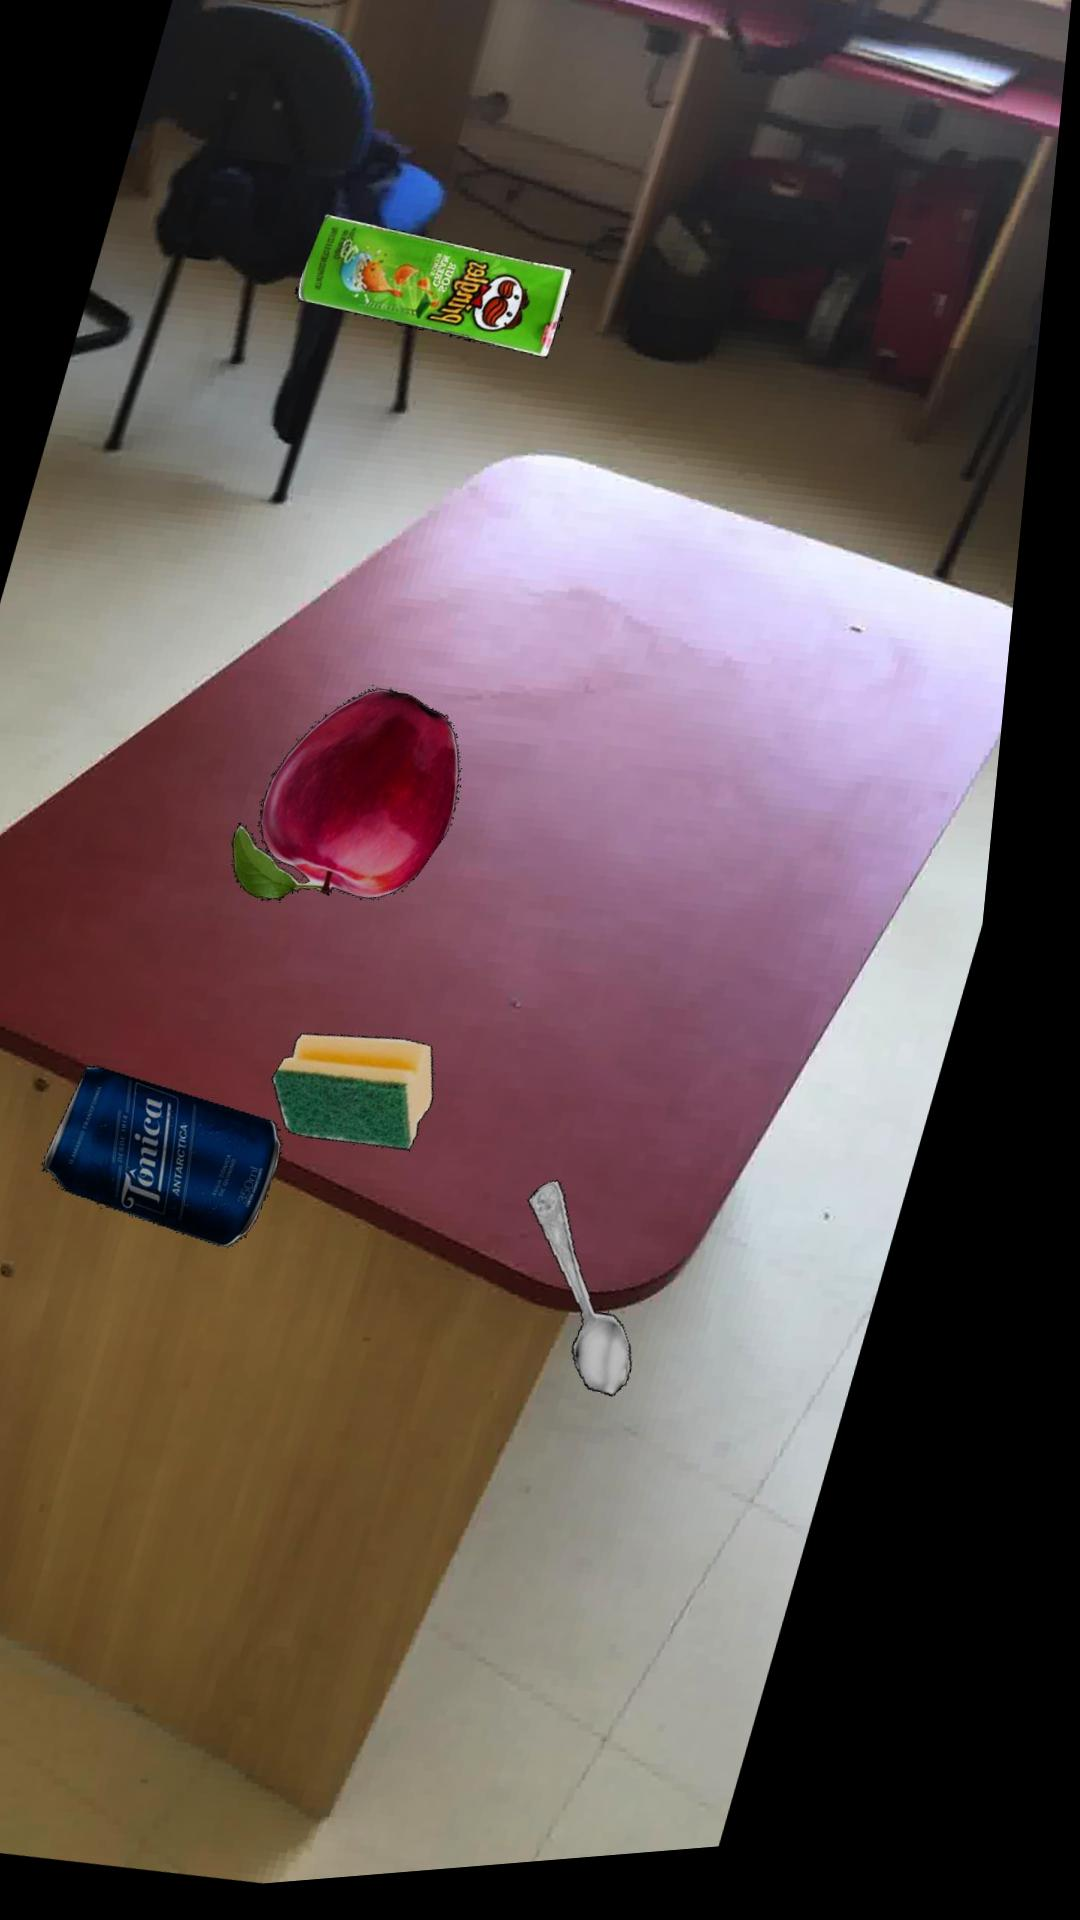apple: (248, 695, 476, 905)
pringles: (299, 219, 578, 367)
sponge: (293, 1038, 456, 1158)
spoon: (553, 1189, 659, 1408)
tonic: (65, 1068, 305, 1251)
